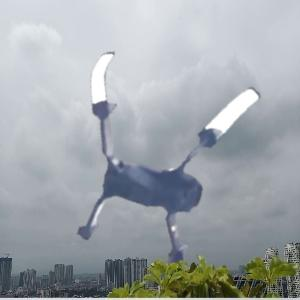drone: (35, 37, 293, 295)
